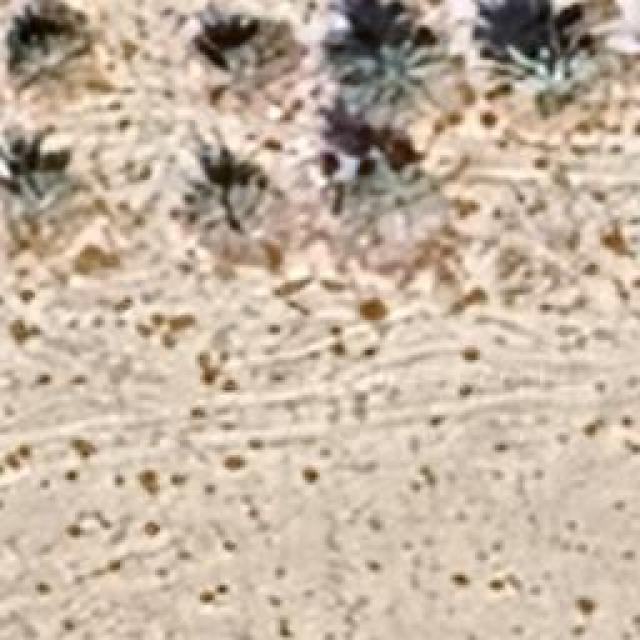PalmTree: (324, 39, 458, 132), (185, 23, 323, 108), (498, 18, 610, 122), (321, 148, 434, 246), (188, 175, 290, 263), (0, 170, 88, 252), (8, 12, 84, 76)
